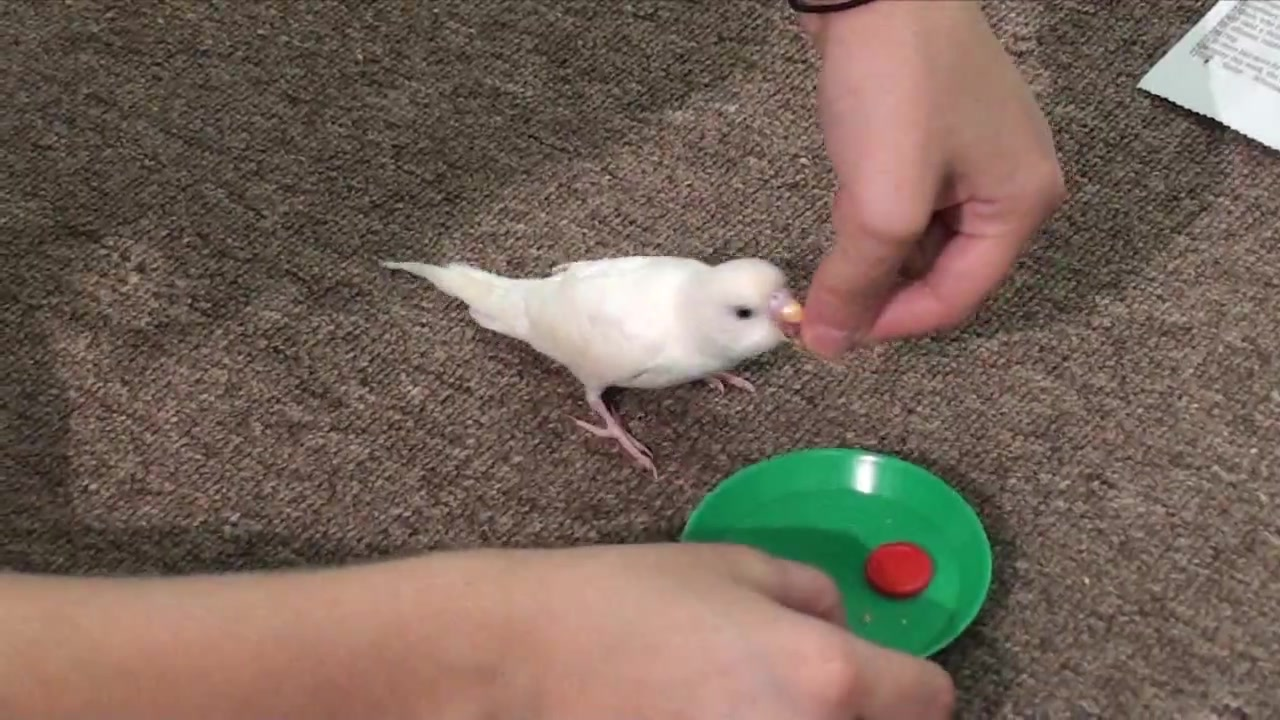bird: (382, 255, 803, 481)
